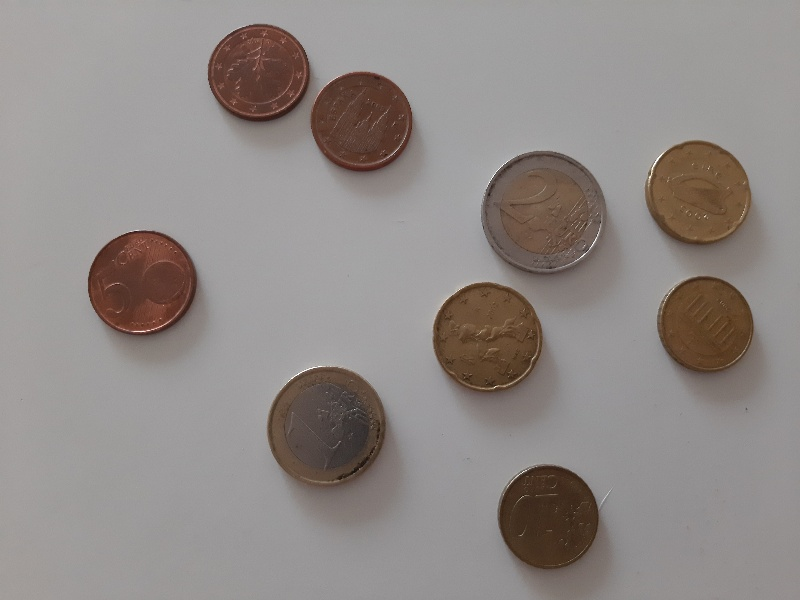1 euro: (265, 362, 388, 492)
10 cent: (496, 464, 601, 572), (655, 274, 761, 377)
2 euro: (479, 148, 610, 277)
20 cent: (431, 280, 545, 395), (645, 138, 754, 247)
5 cent: (86, 228, 200, 339), (206, 20, 311, 125), (309, 70, 416, 173)
